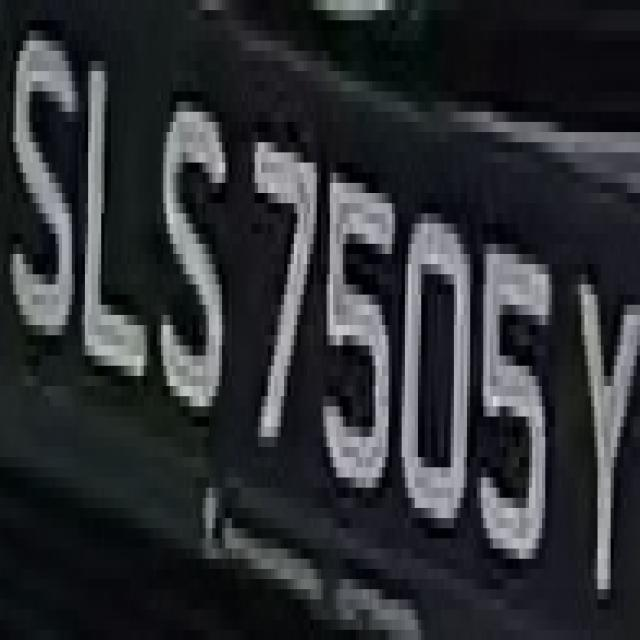0: (402, 203, 470, 528)
5: (320, 163, 402, 528), (477, 224, 555, 589)
7: (248, 81, 320, 468)
L: (75, 31, 160, 417)
S: (147, 51, 235, 437), (3, 41, 78, 346)
Y: (565, 203, 640, 589)
